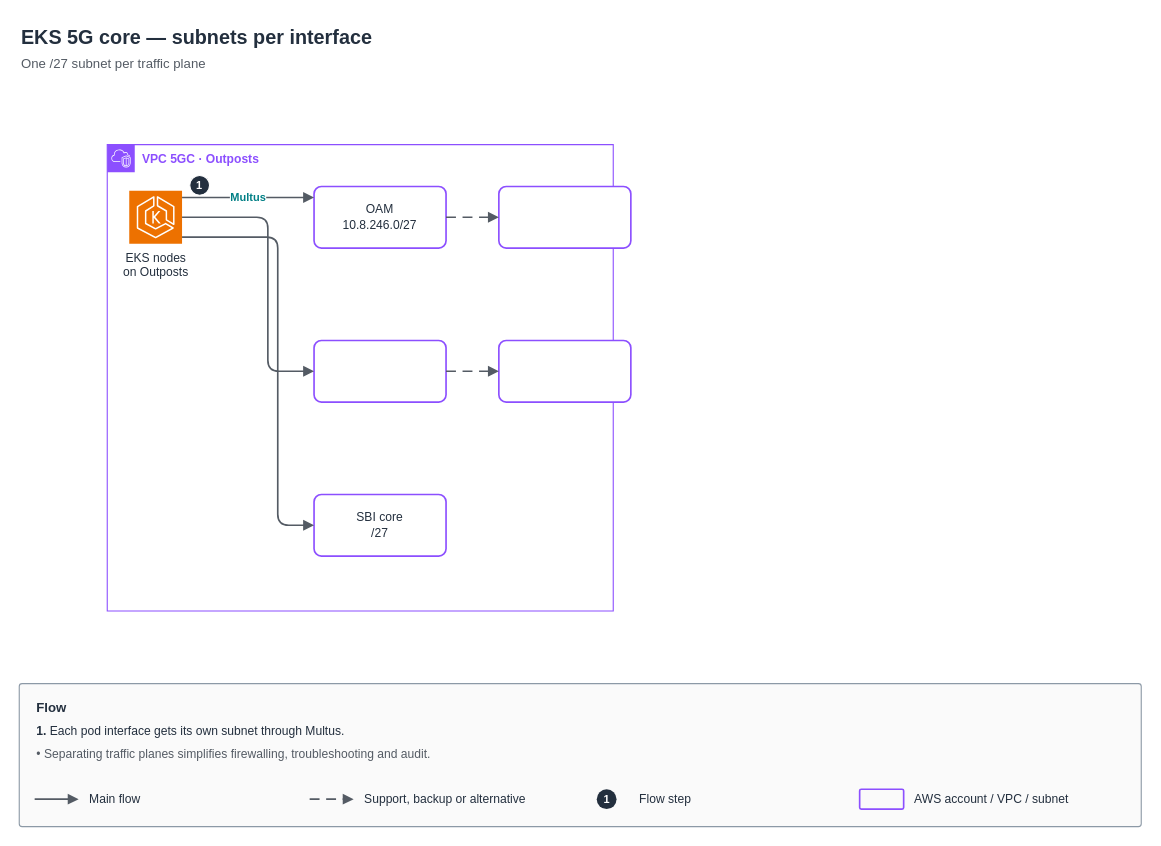
The diagram is 1161 pixels wide and 846 high, and some of its shapes have lost their labels. The shapes that lost their labels are listed below. From the top down, each one's centre as x and y in pixels, then its label:
(564,216): LI /27
(379,370): SCTP /27
(564,370): EPC /27
